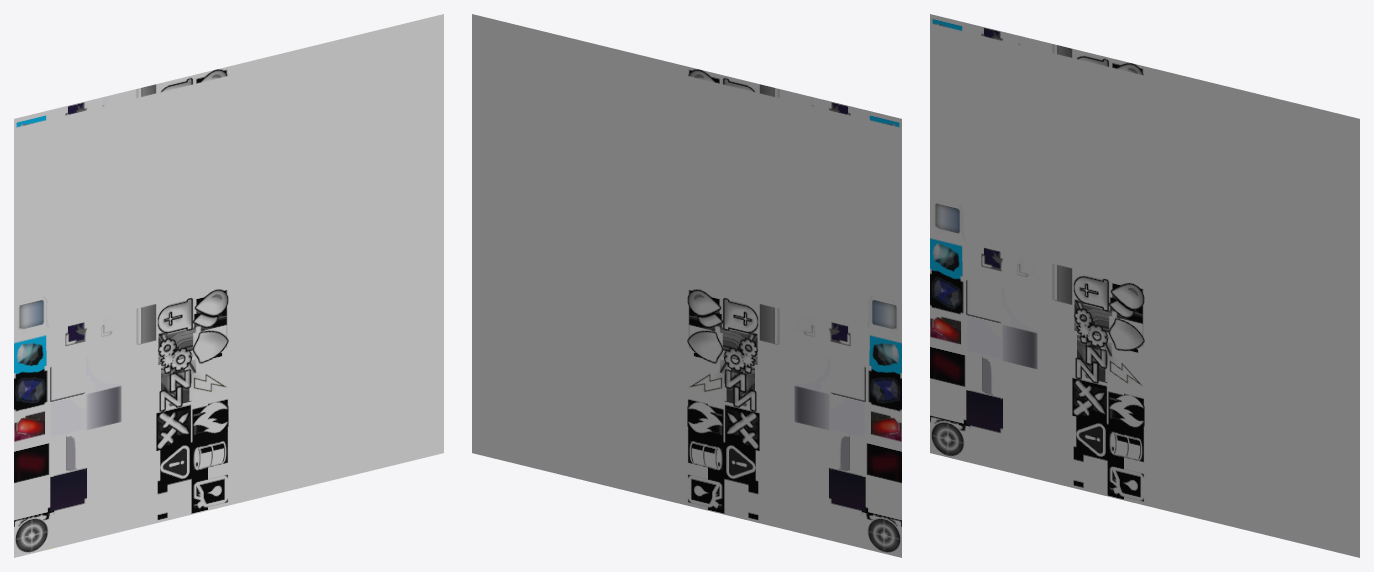
The model's file is nineQuad.FBX.
3 views of the same model, side by side, from view 1: azimuth 30°, elevation 25°; view 2: azimuth 150°, elevation 25°; view 3: azimuth 330°, elevation 25° (orthographic).
Parts seen in each view (by area): view 1: Plane003; view 2: Plane003; view 3: Plane003.
Boxes of the visible parts, x1=… form: Plane003: x1=14, y1=14, x2=443, y2=557; Plane003: x1=472, y1=14, x2=901, y2=557; Plane003: x1=930, y1=14, x2=1359, y2=557.
Bounding box in the file's own units: 10.09 × 9.85 × 1.26e-05.
Materials: 1 (1 with a texture image).
